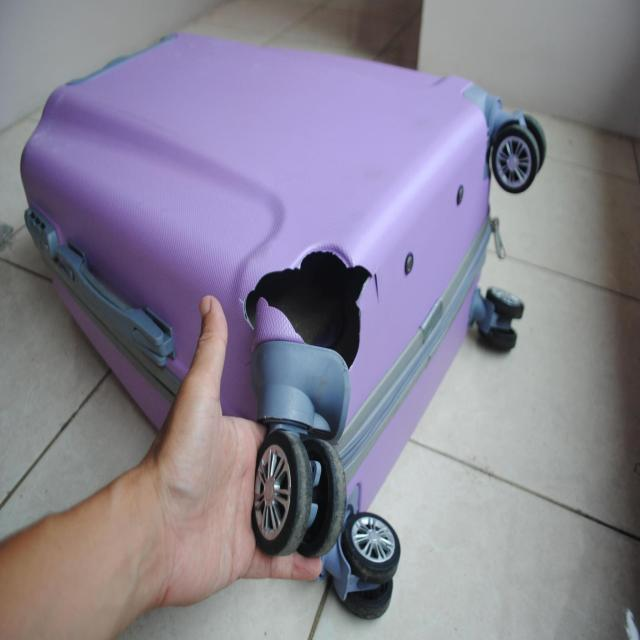Damage-bag: (245, 250, 371, 443), (374, 275, 378, 289)
